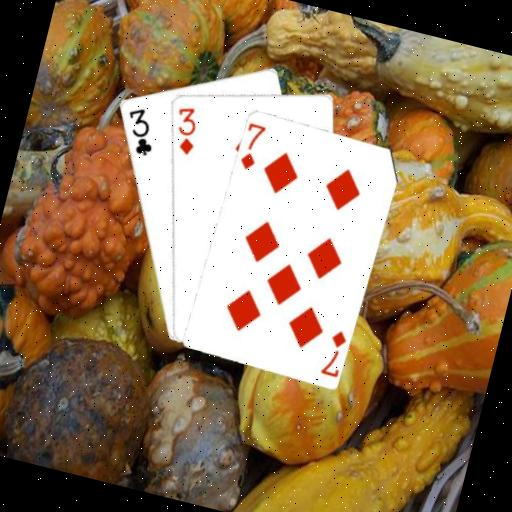3C: (116, 102, 163, 159)
3D: (165, 101, 204, 158)
7D: (236, 119, 269, 174), (316, 324, 349, 379)
